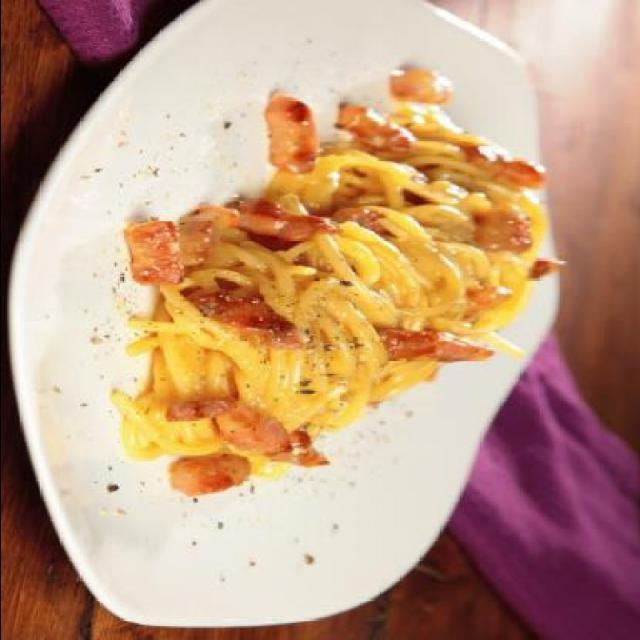Pasta with carbonara sauce: (51, 63, 582, 580)
